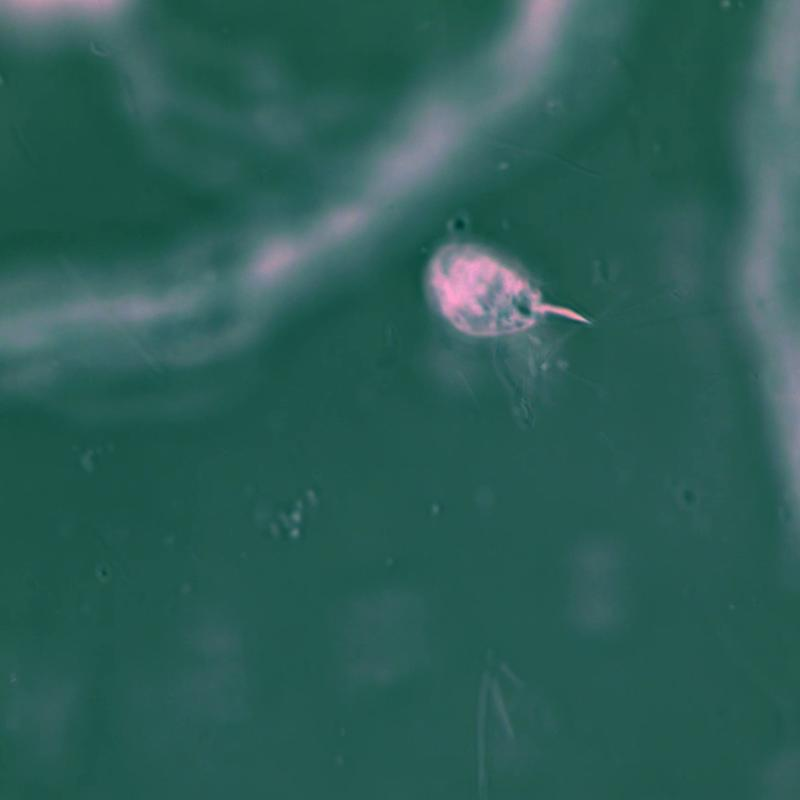depth:60: (392, 209, 634, 367)
